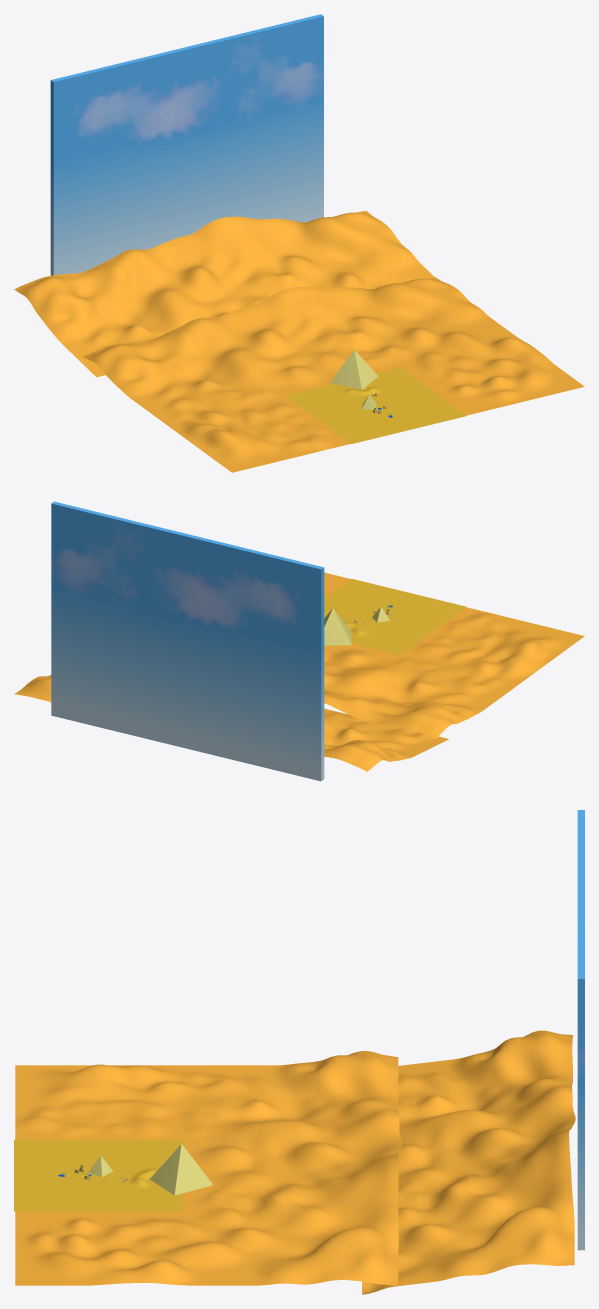
File: RE Desert Background.fbx
3 renders of one model, top to bottom at view 1: azimuth 30°, elevation 25°; view 2: azimuth 150°, elevation 25°; view 3: azimuth 270°, elevation 25°, orthographic. The views are drawn at different scales.
Visible parts, largest first — view 1: Sky WAllpaper background, Ground.001, Dunes big background, Ground, Pyramid second; view 2: Sky WAllpaper background, Ground.001, Ground, Dunes big background, Pyramid second; view 3: Ground.001, Dunes big background, Ground, Sky WAllpaper background, Pyramid second.
Boxes of the visible parts, bbox=[...] form: Sky WAllpaper background: bbox=[50, 14, 323, 275]; Ground.001: bbox=[83, 277, 584, 472]; Dunes big background: bbox=[14, 211, 434, 377]; Ground: bbox=[285, 367, 466, 443]; Pyramid second: bbox=[330, 349, 378, 389]; Sky WAllpaper background: bbox=[51, 501, 324, 781]; Ground.001: bbox=[324, 572, 584, 738]; Ground: bbox=[324, 579, 466, 654]; Dunes big background: bbox=[14, 675, 448, 771]; Pyramid second: bbox=[324, 608, 351, 645]; Ground.001: bbox=[15, 1051, 402, 1285]; Dunes big background: bbox=[362, 1030, 575, 1294]; Ground: bbox=[14, 1139, 183, 1211]; Sky WAllpaper background: bbox=[577, 810, 584, 1250]; Pyramid second: bbox=[150, 1144, 212, 1195].
Size of the model in its own units: 132197 by 82267 by 144524.
